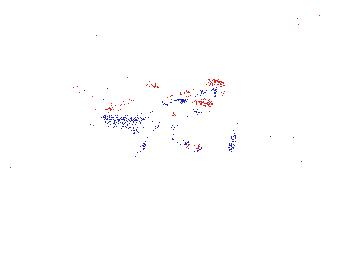red belly glassfish: (209, 108, 242, 176), (166, 128, 204, 154)
redtail glassfish: (77, 77, 230, 136), (69, 74, 186, 99)
